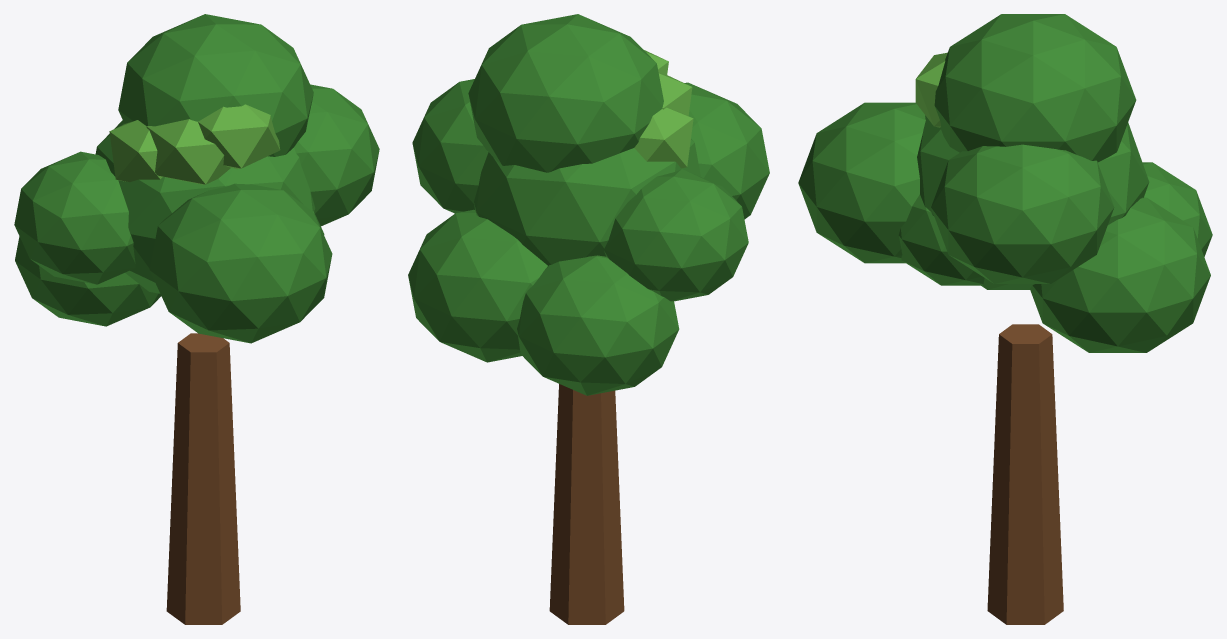
Rendered from tree.glb.
The picture shows the model from 3 angles, left to right: view 1: azimuth 30°, elevation 25°; view 2: azimuth 150°, elevation 25°; view 3: azimuth 270°, elevation 25°; orthographic projection. The views are drawn at different scales.
Visible parts, largest first — view 1: leaves1, trunk, leaves2; view 2: leaves1, trunk, leaves2; view 3: leaves1, trunk, leaves2.
Boxes of the visible parts, <box> form: leaves1: <box>14,14,379,343</box>; trunk: <box>166,333,240,624</box>; leaves2: <box>109,104,280,184</box>; leaves1: <box>408,14,769,395</box>; trunk: <box>549,384,624,624</box>; leaves2: <box>634,50,693,168</box>; leaves1: <box>798,14,1212,352</box>; trunk: <box>987,324,1063,624</box>; leaves2: <box>915,52,947,127</box>.
Bounding box in the file's own units: 1.01 × 1.73 × 1.09.
